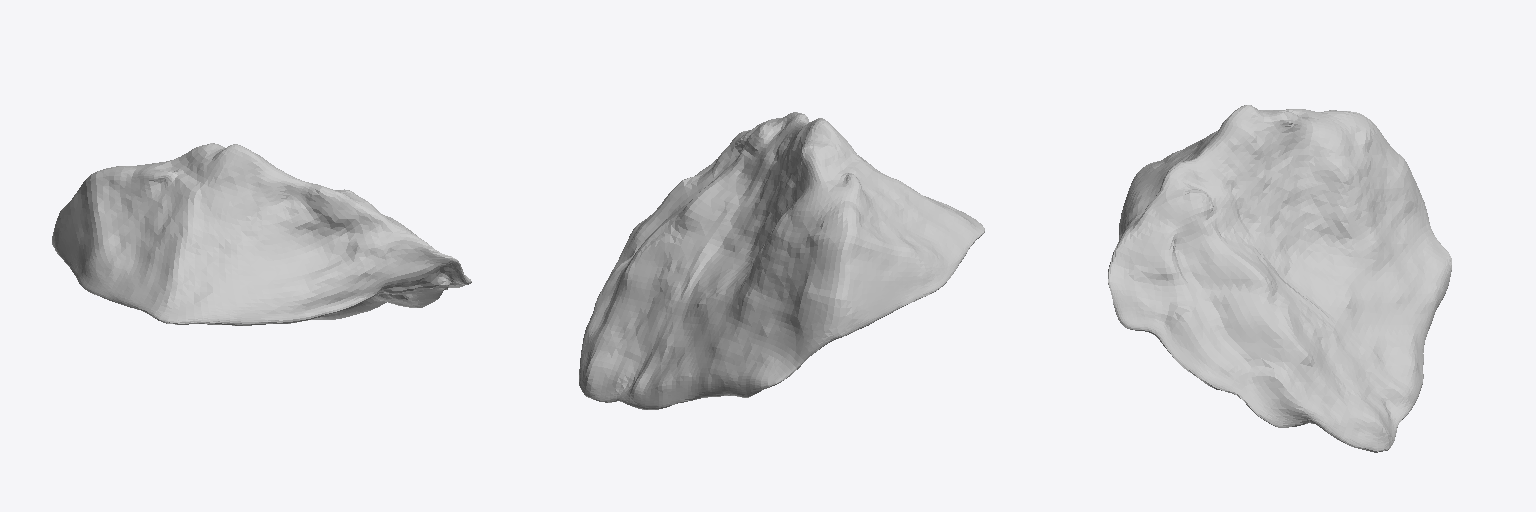
The model's file is 12f5c68f8772_Large_Boulder_Mount.obj.
3 renders of one model, left to right at view 1: azimuth 30°, elevation 25°; view 2: azimuth 150°, elevation 25°; view 3: azimuth 270°, elevation 25°, orthographic.
Visible parts, largest first — view 1: mesh; view 2: mesh; view 3: mesh.
Part boxes in pixels (bbox=[...]): mesh: bbox=[52, 143, 471, 325]; mesh: bbox=[579, 112, 984, 409]; mesh: bbox=[1108, 105, 1451, 452].
Bounding box in the file's own units: 0.9987 × 0.7334 × 0.8667.